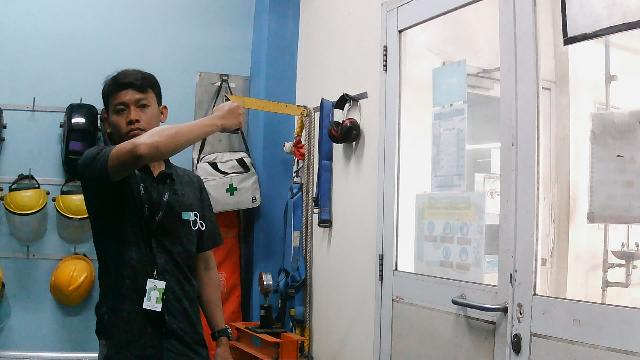penggaris_siku: (219, 89, 310, 141)
